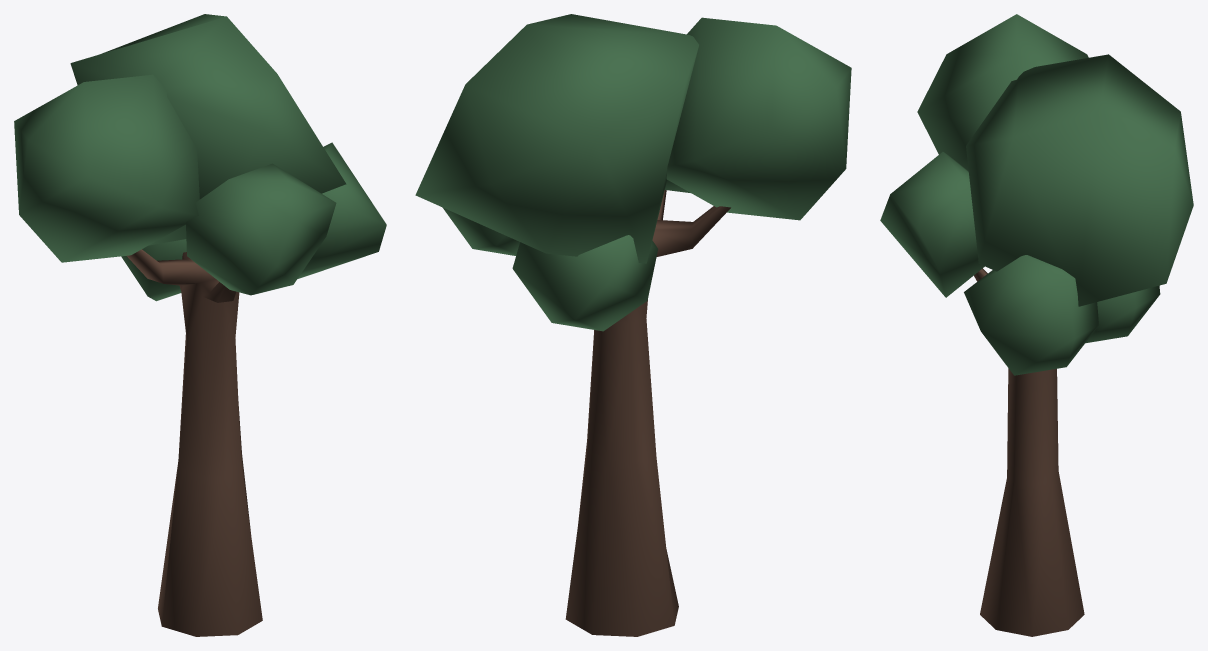
File: Tree.fbx
The picture shows the model from 3 angles, left to right: view 1: azimuth 30°, elevation 25°; view 2: azimuth 150°, elevation 25°; view 3: azimuth 270°, elevation 25°; orthographic projection. The views are drawn at different scales.
Parts seen in each view (by area): view 1: Trees; view 2: Trees; view 3: Trees.
Part boxes in pixels (x1,y1,x2,y2): Trees: [14, 14, 386, 636]; Trees: [415, 14, 851, 636]; Trees: [880, 14, 1193, 636].
Size of the model in its own units: 6.51 by 9.92 by 5.23.
